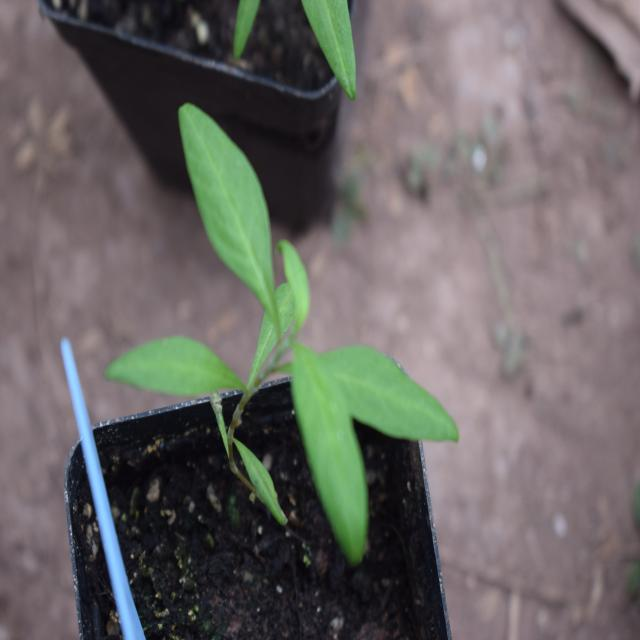white_smart_weed: (140, 96, 472, 537)
